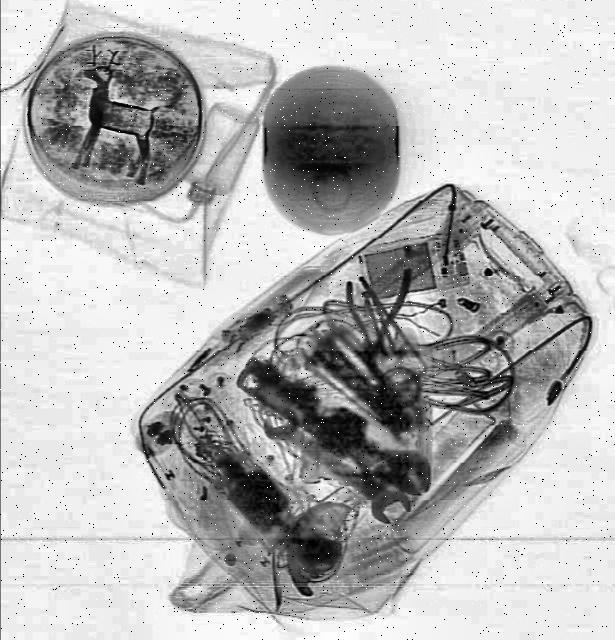Pliers: (344, 272, 408, 364)
Wrench: (254, 402, 415, 534)
